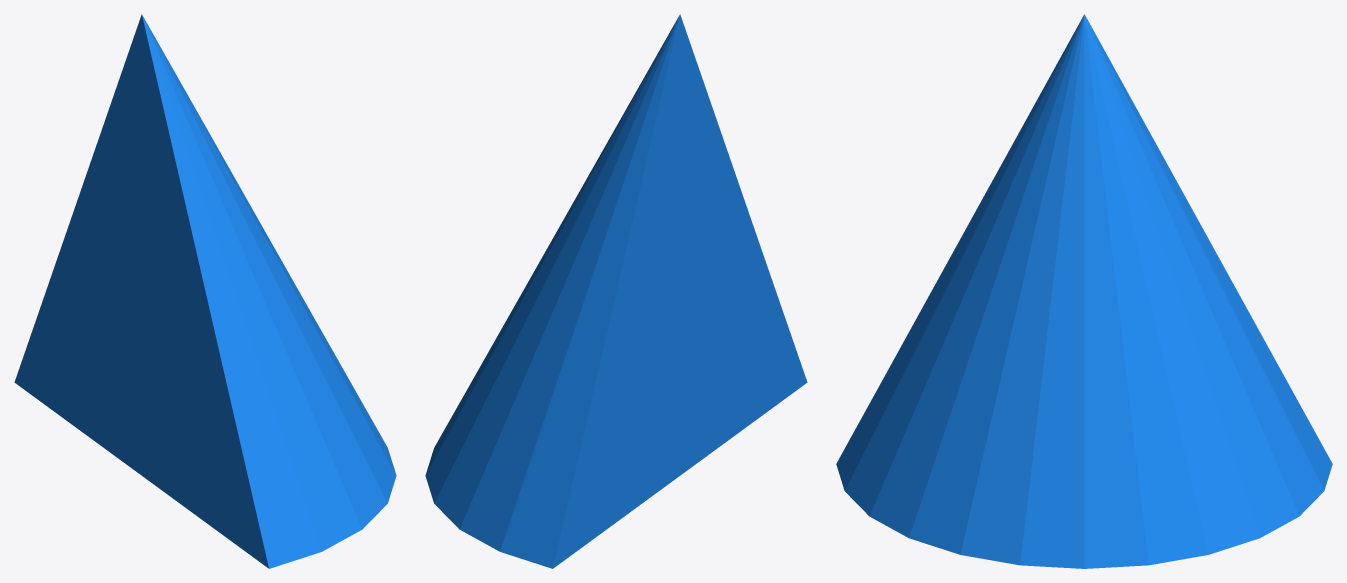
The model's file is Proto_Block_Top_Point_Round_Half_01.fbx.
3 views of the same model, side by side, from view 1: azimuth 30°, elevation 25°; view 2: azimuth 150°, elevation 25°; view 3: azimuth 270°, elevation 25° (orthographic). The views are drawn at different scales.
Parts seen in each view (by area): view 1: Proto_Block_Top_Point_Round_Half_01; view 2: Proto_Block_Top_Point_Round_Half_01; view 3: Proto_Block_Top_Point_Round_Half_01.
Boxes of the visible parts, x1,y1,x2,y2 form: Proto_Block_Top_Point_Round_Half_01: (14, 14, 396, 568); Proto_Block_Top_Point_Round_Half_01: (425, 14, 807, 568); Proto_Block_Top_Point_Round_Half_01: (836, 14, 1332, 568).
Bounding box in the file's own units: 0.5 × 1 × 1.
